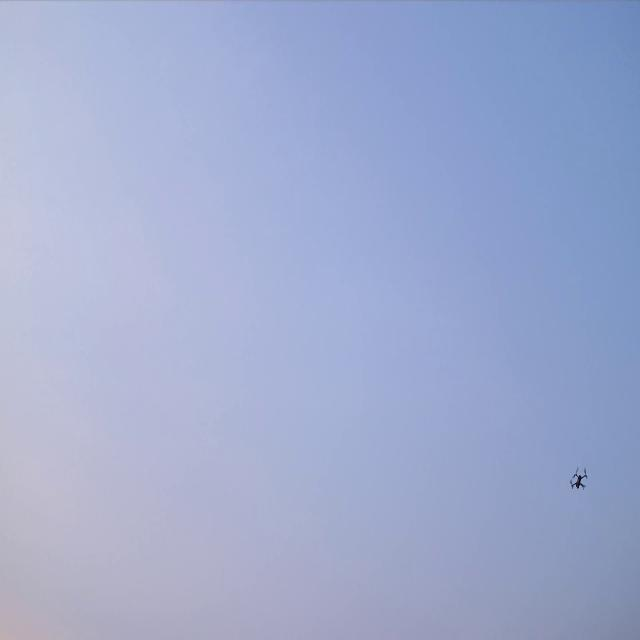UAV: (571, 471, 586, 488)
